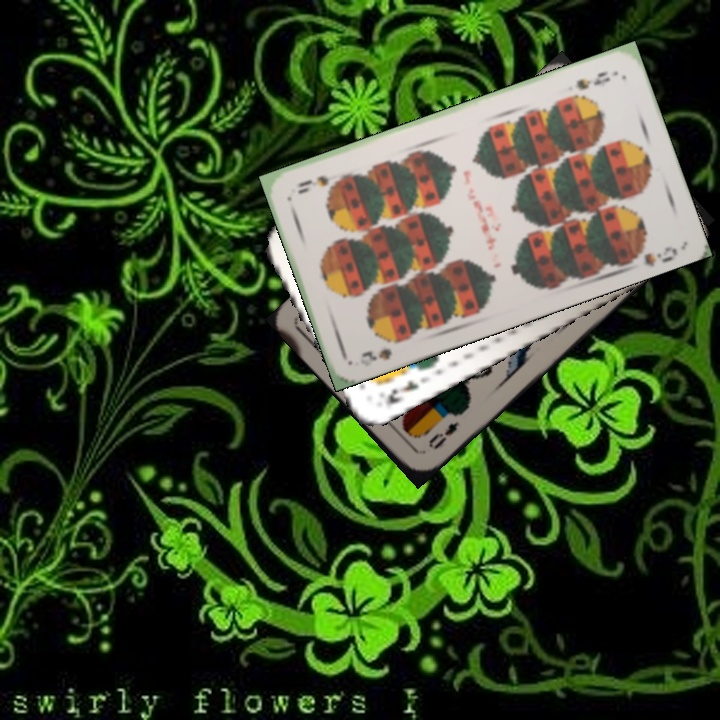EK: (381, 376, 423, 407)
EO: (424, 417, 462, 453)
S9: (357, 332, 407, 364), (572, 66, 613, 93)
